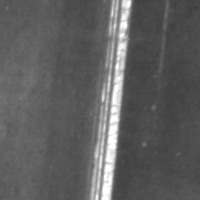scratches: (87, 0, 135, 199)
